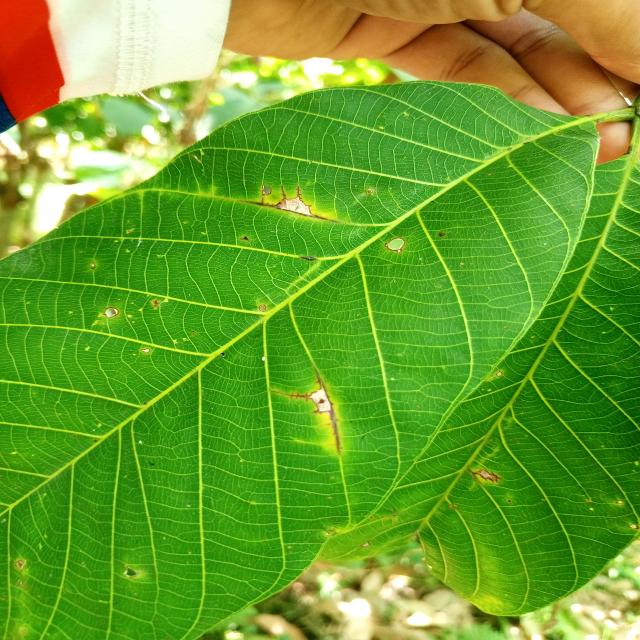Colletotrichum: (385, 237, 405, 251), (104, 308, 119, 318), (262, 185, 272, 196), (259, 304, 266, 312), (141, 348, 150, 353)
Corynespora: (272, 368, 342, 453), (238, 186, 339, 223), (274, 390, 312, 403), (473, 468, 502, 482), (280, 186, 287, 200), (296, 186, 302, 200)
Leaf-Blight: (277, 198, 312, 215), (311, 388, 331, 412)
